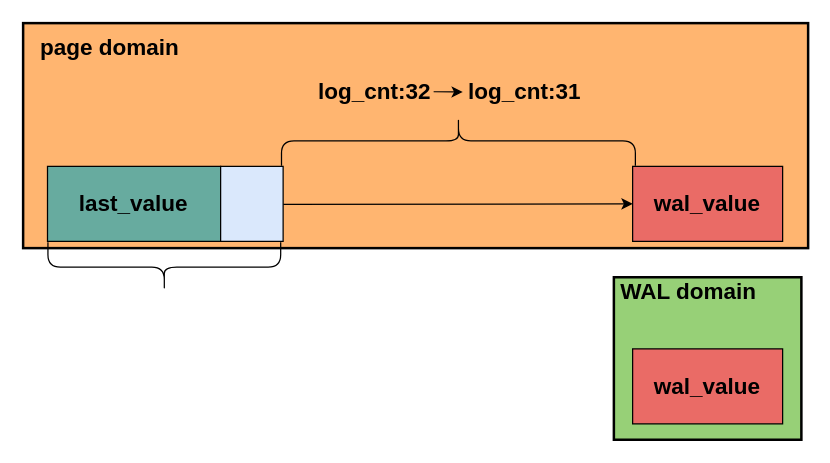
Some shapes in this 830 by 463 pixel diagram are drawn without their labels. Here are the shapes that lost their labels. From the top down, the centre of each, then its label:
the point at 251,203: inc
the point at 164,266: NEW:last_value
